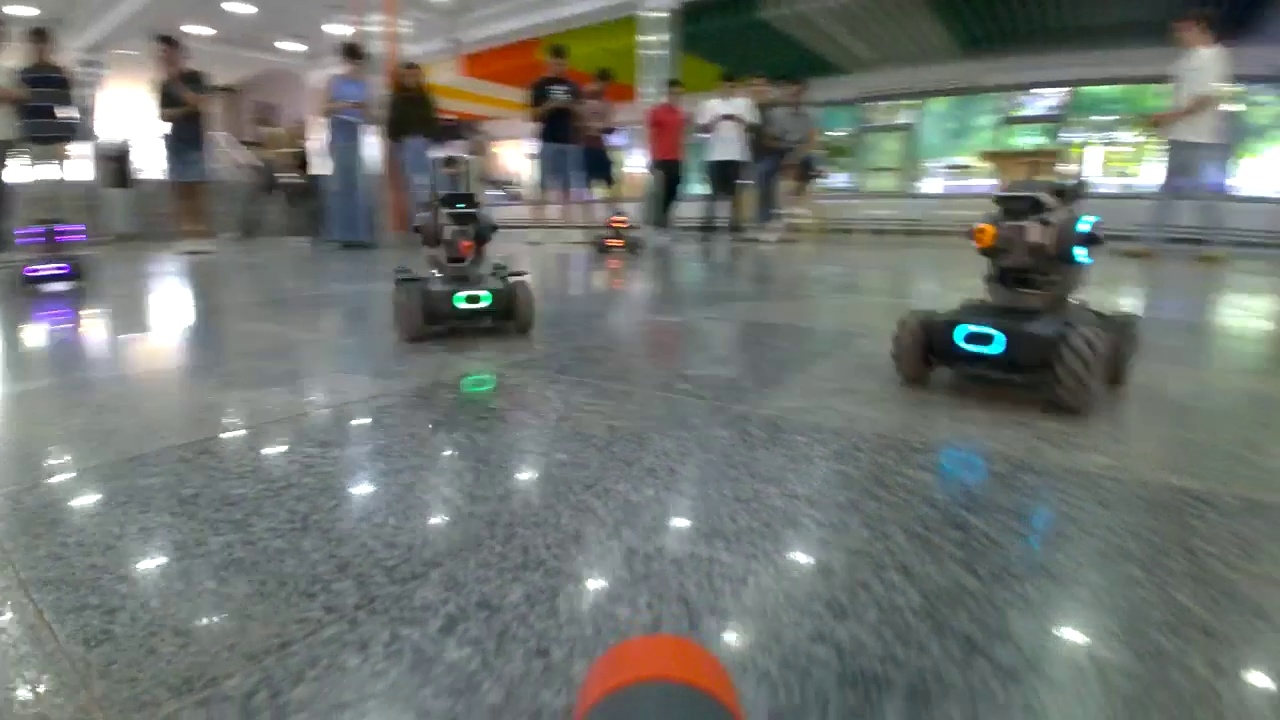robot: (894, 181, 1141, 417), (390, 164, 533, 334), (19, 217, 88, 289), (595, 210, 636, 257)
